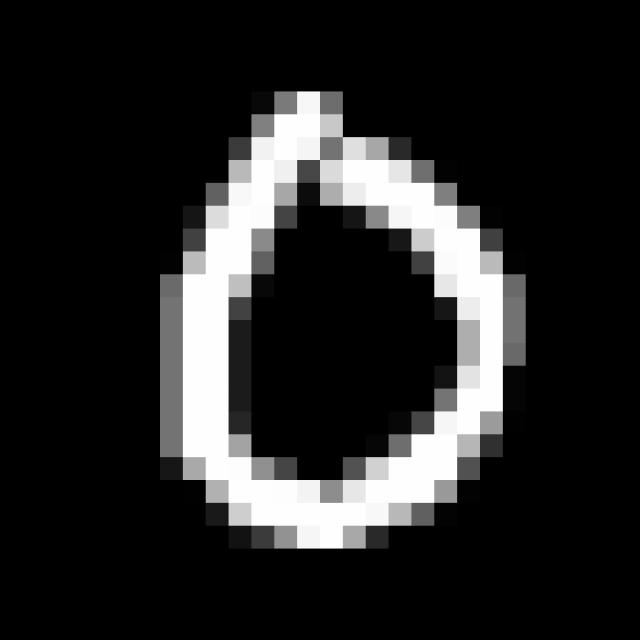zero -0-: (132, 73, 544, 567)
